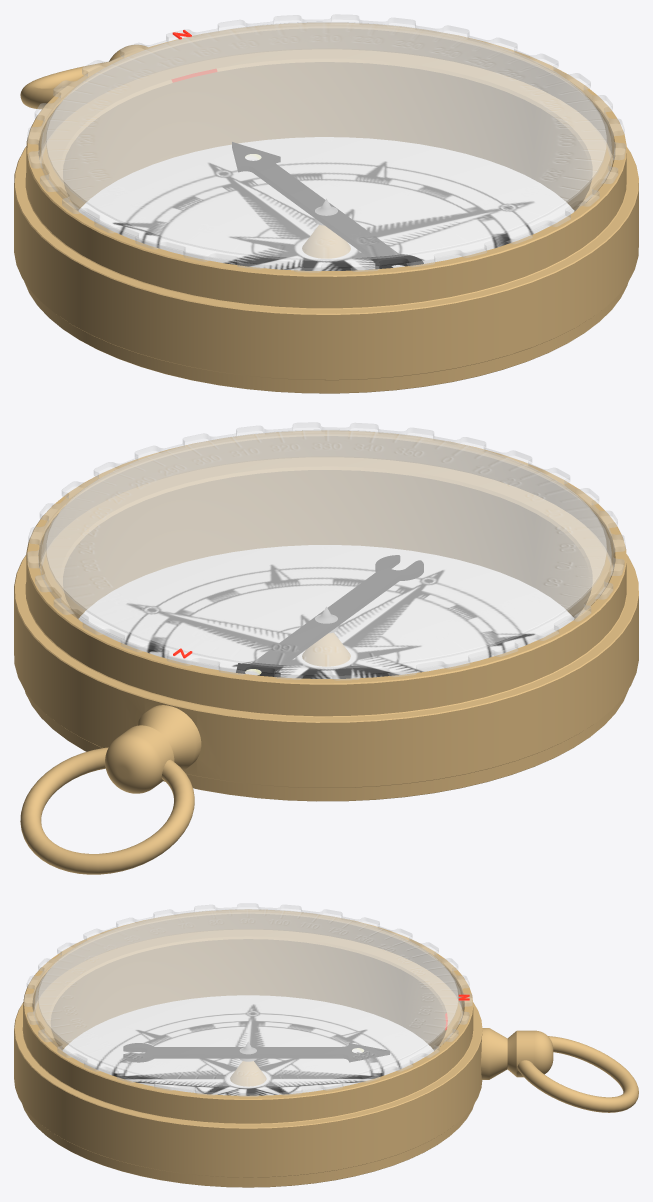
The model's file is Compass.gltf.
3 views of the same model, one above another, from view 1: azimuth 30°, elevation 25°; view 2: azimuth 150°, elevation 25°; view 3: azimuth 270°, elevation 25° (orthographic). The views are drawn at different scales.
Parts seen in each view (by area): view 1: compass housing_1, rotating cylinder_3, needle_4, ring_2; view 2: compass housing_1, rotating cylinder_3, ring_2, needle_4; view 3: compass housing_1, rotating cylinder_3, ring_2, needle_4.
Part boxes in pixels (x1,y1,x2,y2): compass housing_1: (14, 23, 638, 393); rotating cylinder_3: (27, 14, 625, 272); needle_4: (232, 142, 423, 268); ring_2: (20, 62, 107, 109); compass housing_1: (14, 430, 638, 801); rotating cylinder_3: (27, 422, 625, 680); ring_2: (20, 747, 194, 874); needle_4: (236, 555, 423, 676); compass housing_1: (14, 909, 553, 1187); rotating cylinder_3: (24, 903, 472, 1096); ring_2: (517, 1036, 638, 1112); needle_4: (123, 1042, 389, 1062).
Size of the model in its own units: 51.25 by 12.39 by 68.35.
Materials: 9 (4 with a texture image).
